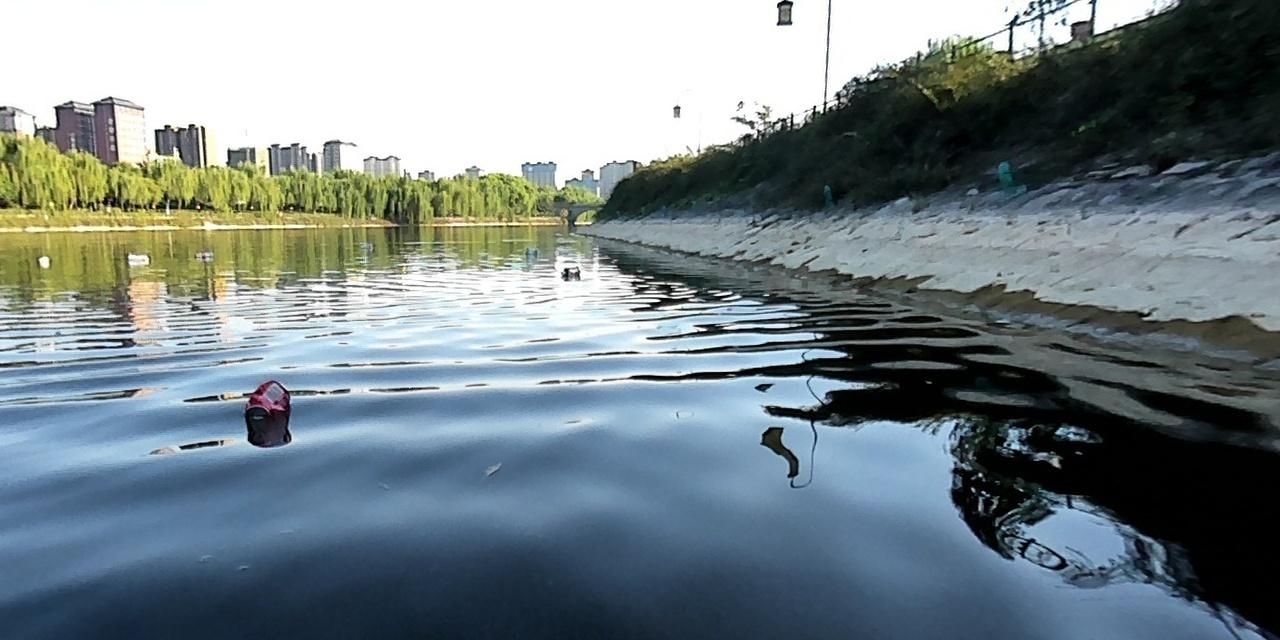bottle: (241, 376, 298, 432), (123, 248, 150, 263), (556, 264, 583, 278), (191, 246, 216, 261), (520, 243, 538, 256)
